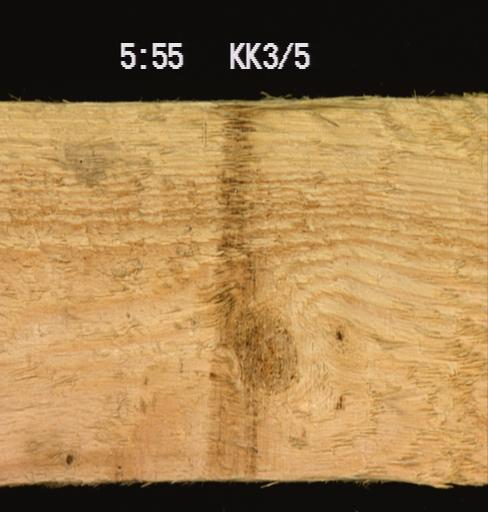small_knot: (330, 325, 347, 344), (62, 448, 76, 468)
sound_knot: (216, 298, 305, 399)
